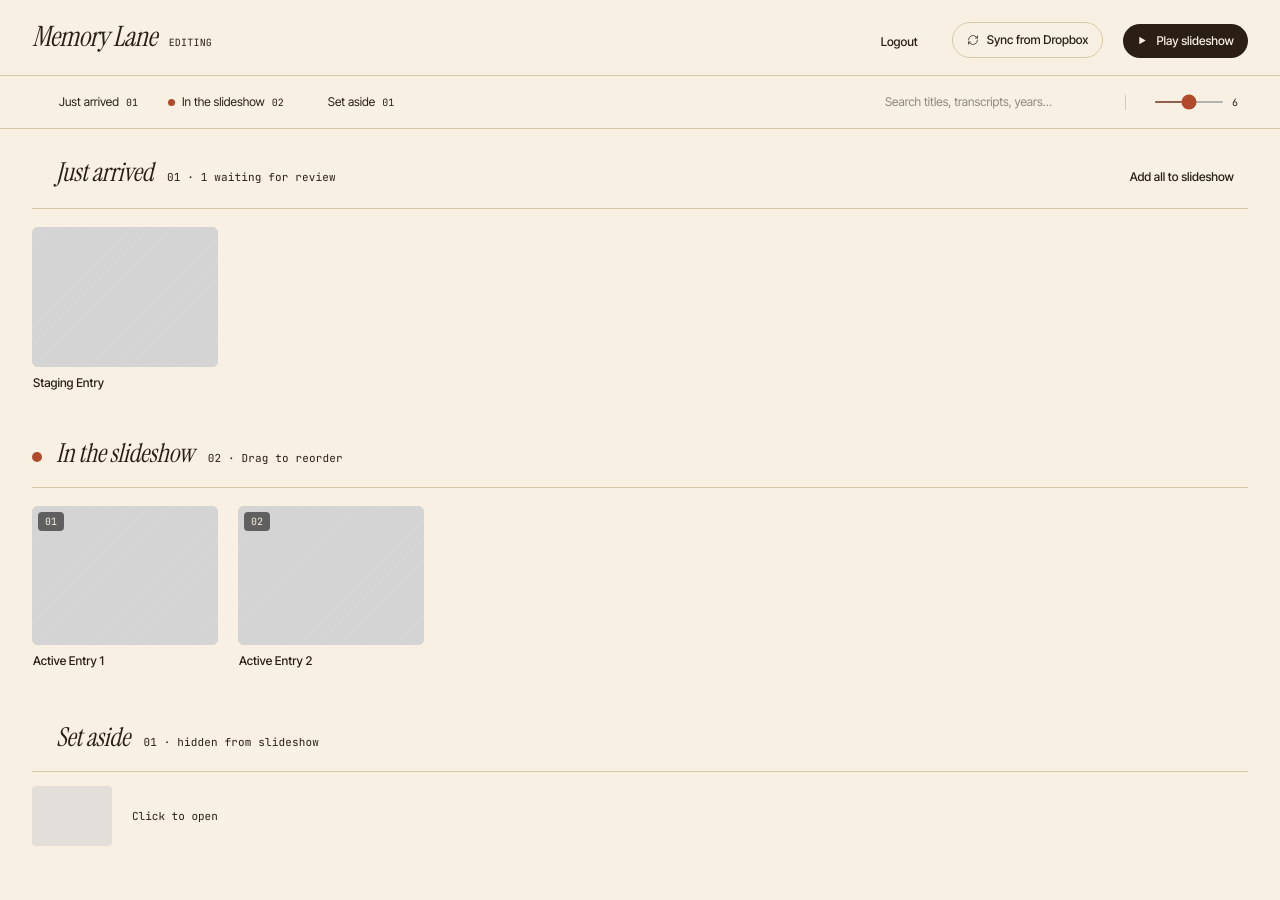
EntryGrid › Multi-select › shows floating selection bar when an entry is selected via thumb-check
Trigger hover so the check appears on the first active entry
Hover over the text "Active Entry 1" at {"x": 125, "y": 588}, box [32, 506, 218, 670]
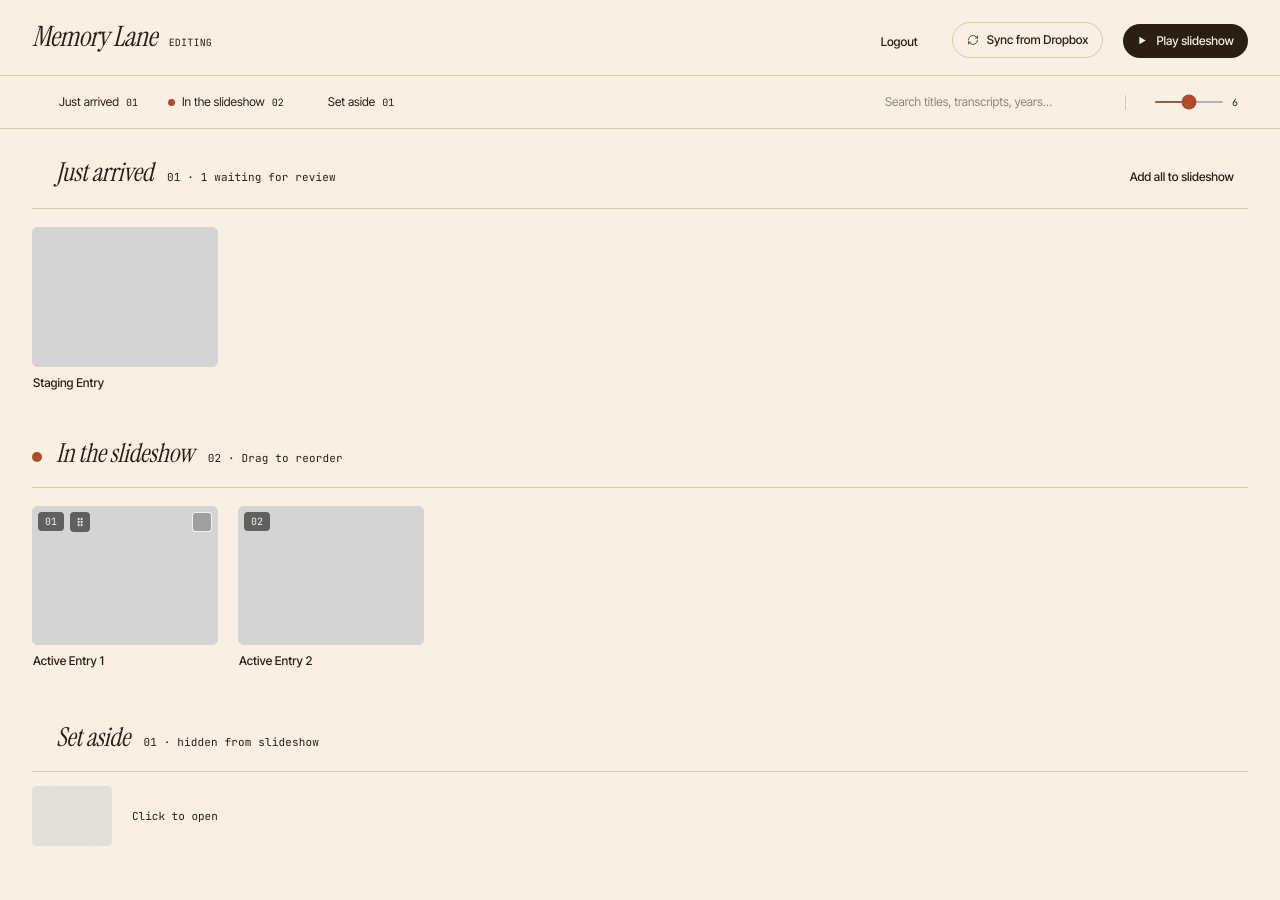
Click the element with test id "thumb-check" at {"x": 202, "y": 522}, box [192, 512, 212, 532]
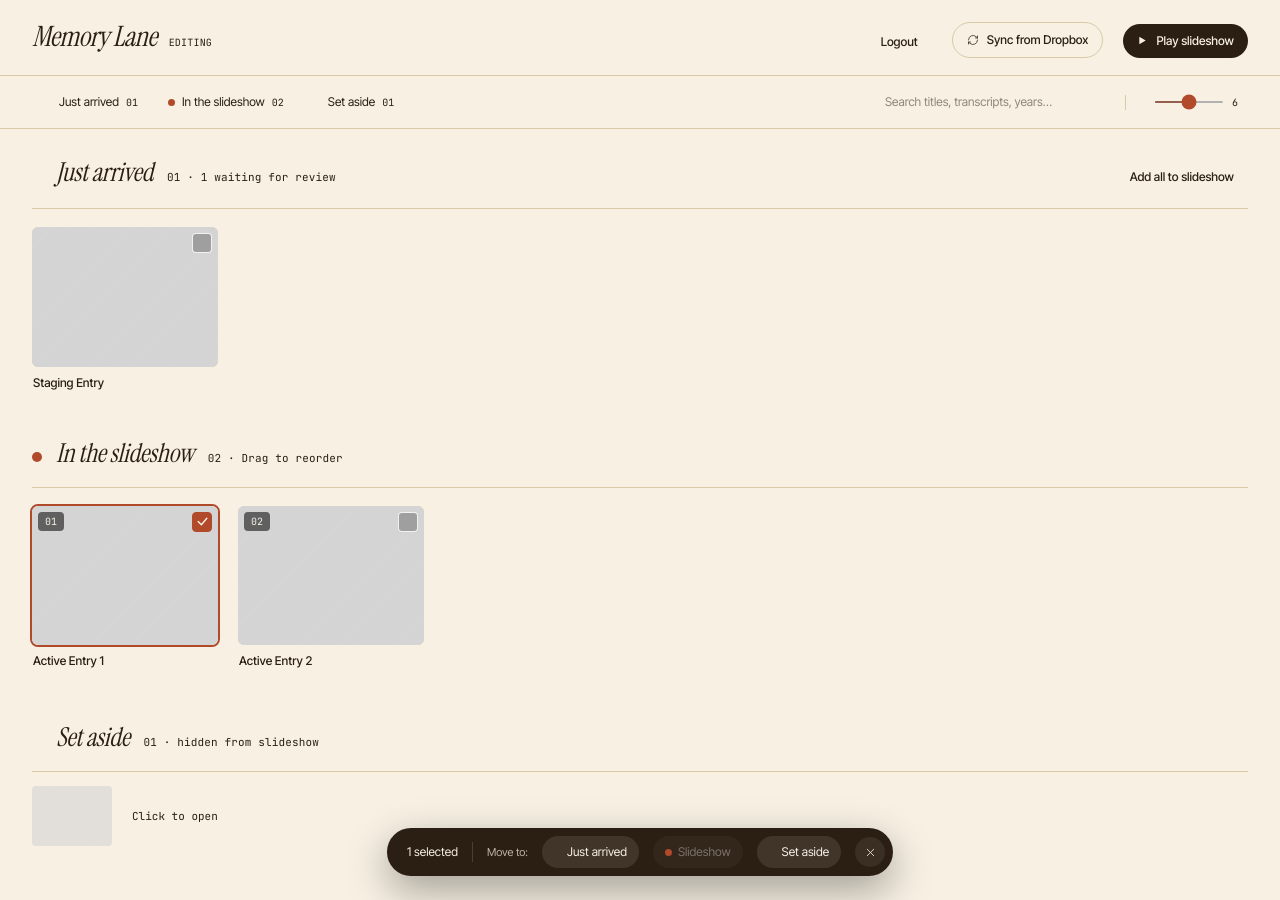
Check: the text "1 selected" is shown, box [407, 843, 458, 861]
